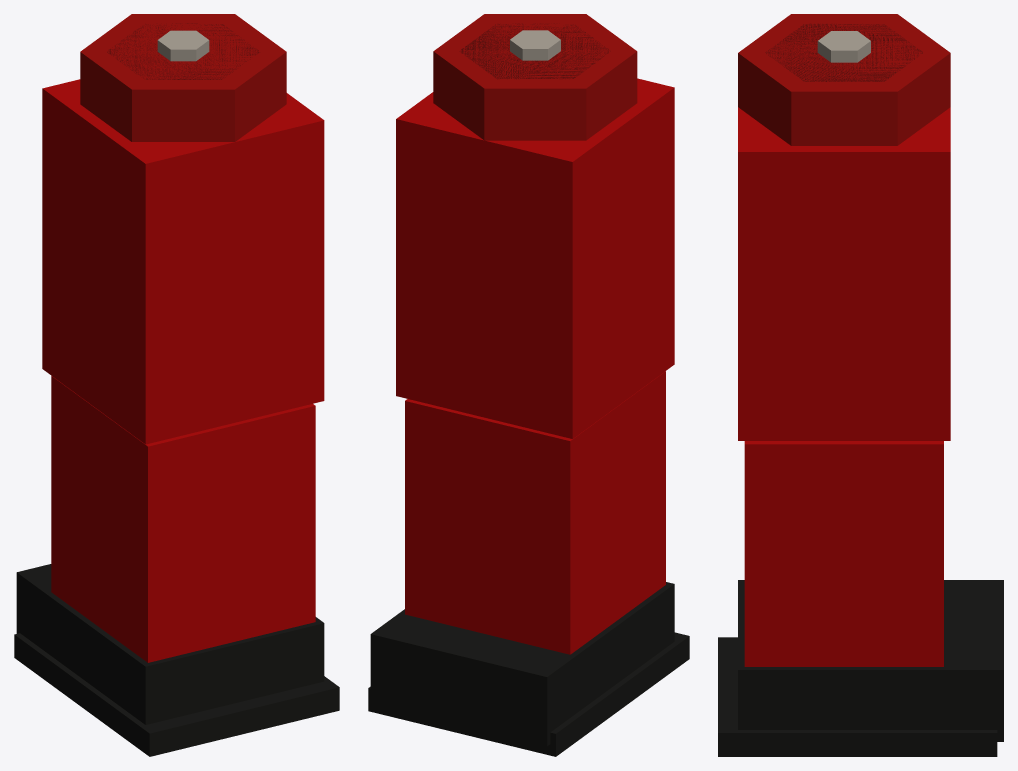
File: soviet_leg_l.glb
3 views of the same model, side by side, from view 1: azimuth 30°, elevation 25°; view 2: azimuth 150°, elevation 25°; view 3: azimuth 270°, elevation 25° (orthographic). The views are drawn at different scales.
Visible parts, largest first — view 1: soviet_leg_L; view 2: soviet_leg_L; view 3: soviet_leg_L.
Boxes of the visible parts, <box> form: soviet_leg_L: <box>14,14,339,756</box>; soviet_leg_L: <box>368,14,689,756</box>; soviet_leg_L: <box>718,14,1003,756</box>.
Bounding box in the file's own units: 0.34 × 1.11 × 0.43.
